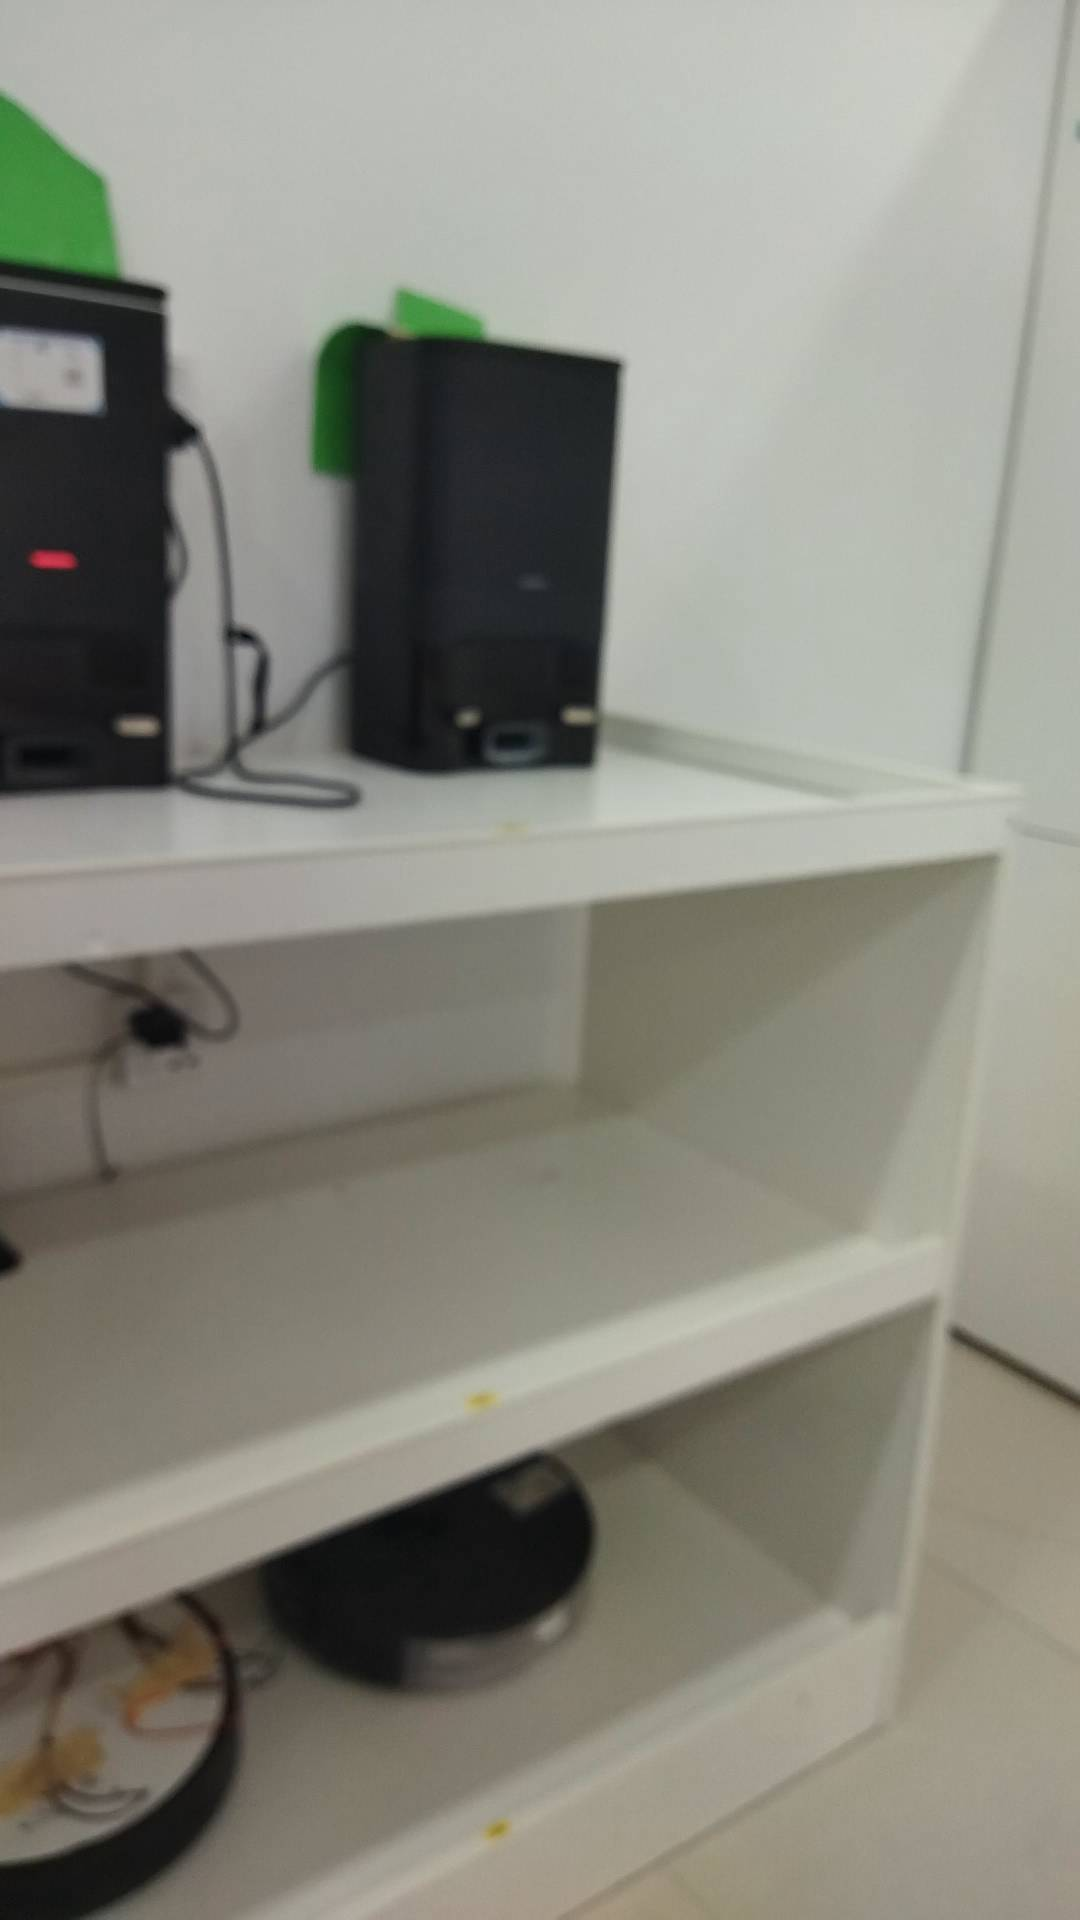dust collecting barrel: (345, 330, 633, 774), (1, 255, 175, 804)
